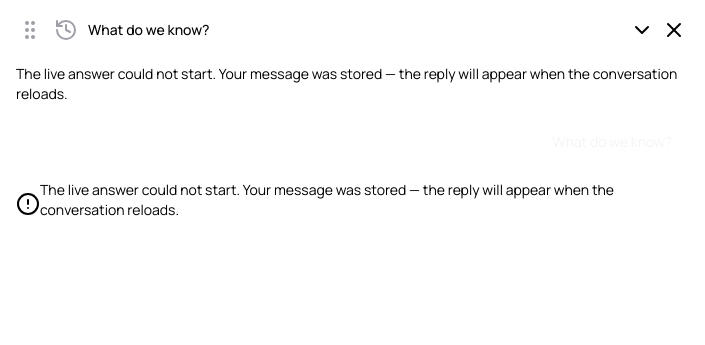
Test case: history › starts a new chat from history
Click the button named "back to thread history" at {"x": 66, "y": 30}, box [52,16,80,44]
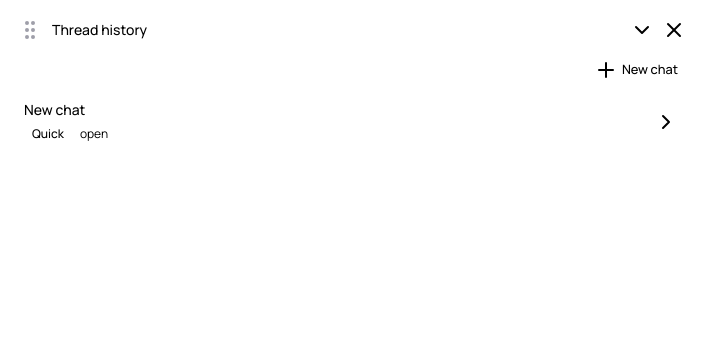
Click the button "New chat" at {"x": 636, "y": 70}, box [584,56,688,84]
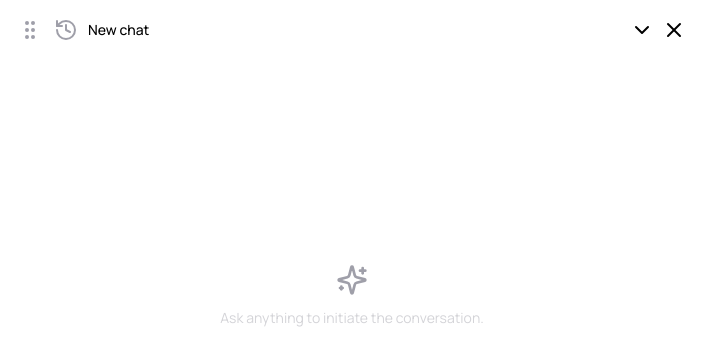
Expected: the text "What do we know?" is not shown
Expected: the text "Ask anything to initiate the conversation." is shown, [220,308,484,328]
